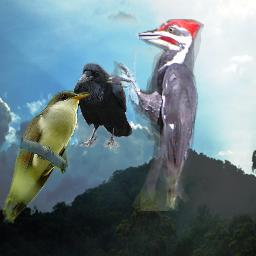Crow: (73, 62, 133, 147)
Cuckoo: (1, 90, 91, 222)
Woodpecker: (105, 19, 204, 211)
